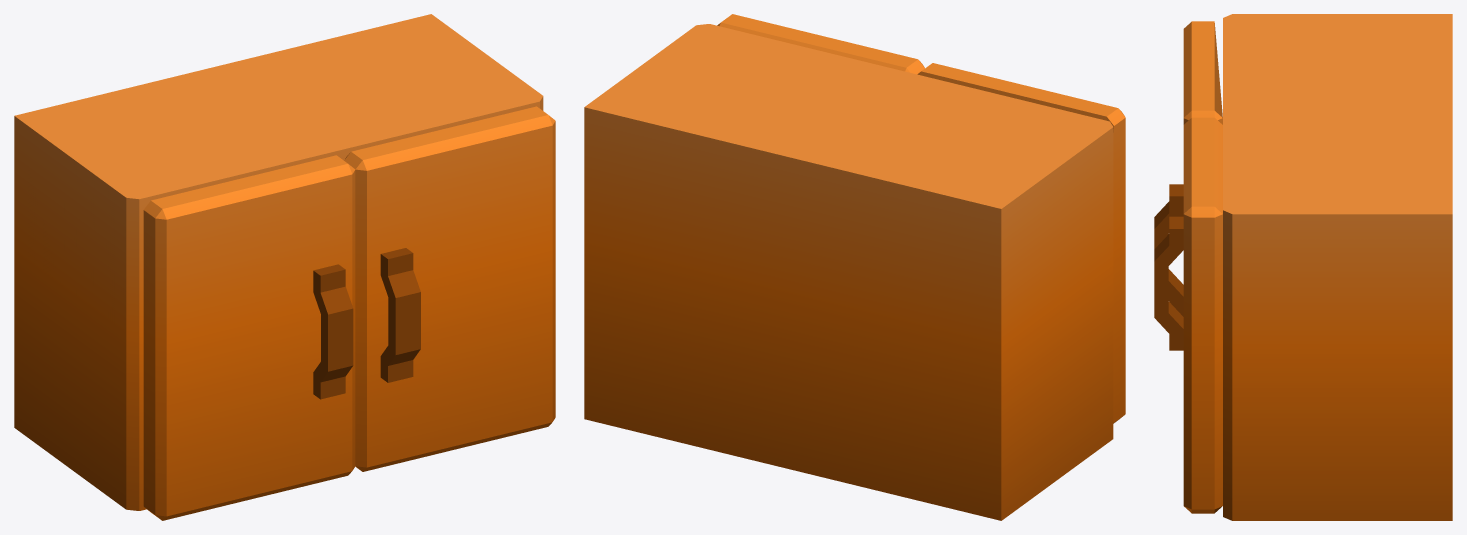
The model's file is Cabinet_01_L_C03.fbx.
3 renders of one model, left to right at view 1: azimuth 30°, elevation 25°; view 2: azimuth 150°, elevation 25°; view 3: azimuth 270°, elevation 25°, orthographic.
Visible parts, largest first — view 1: Cabinet_01_L_C03, Cabinet_01_L_C03_Door_R, Cabinet_01_L_C03_Door_L; view 2: Cabinet_01_L_C03, Cabinet_01_L_C03_Door_R, Cabinet_01_L_C03_Door_L; view 3: Cabinet_01_L_C03, Cabinet_01_L_C03_Door_L, Cabinet_01_L_C03_Door_R.
Boxes of the visible parts, left/top/right/bottom form: Cabinet_01_L_C03: left=14, top=14, right=543, bottom=510; Cabinet_01_L_C03_Door_R: left=143, top=155, right=355, bottom=520; Cabinet_01_L_C03_Door_L: left=344, top=106, right=555, bottom=471; Cabinet_01_L_C03: left=584, top=24, right=1113, bottom=520; Cabinet_01_L_C03_Door_R: left=917, top=63, right=1125, bottom=423; Cabinet_01_L_C03_Door_L: left=717, top=14, right=924, bottom=74; Cabinet_01_L_C03: left=1223, top=14, right=1452, bottom=520; Cabinet_01_L_C03_Door_L: left=1154, top=117, right=1222, bottom=513; Cabinet_01_L_C03_Door_R: left=1154, top=21, right=1222, bottom=316.
Bounding box in the file's own units: 100 × 71.44 × 62.96.
